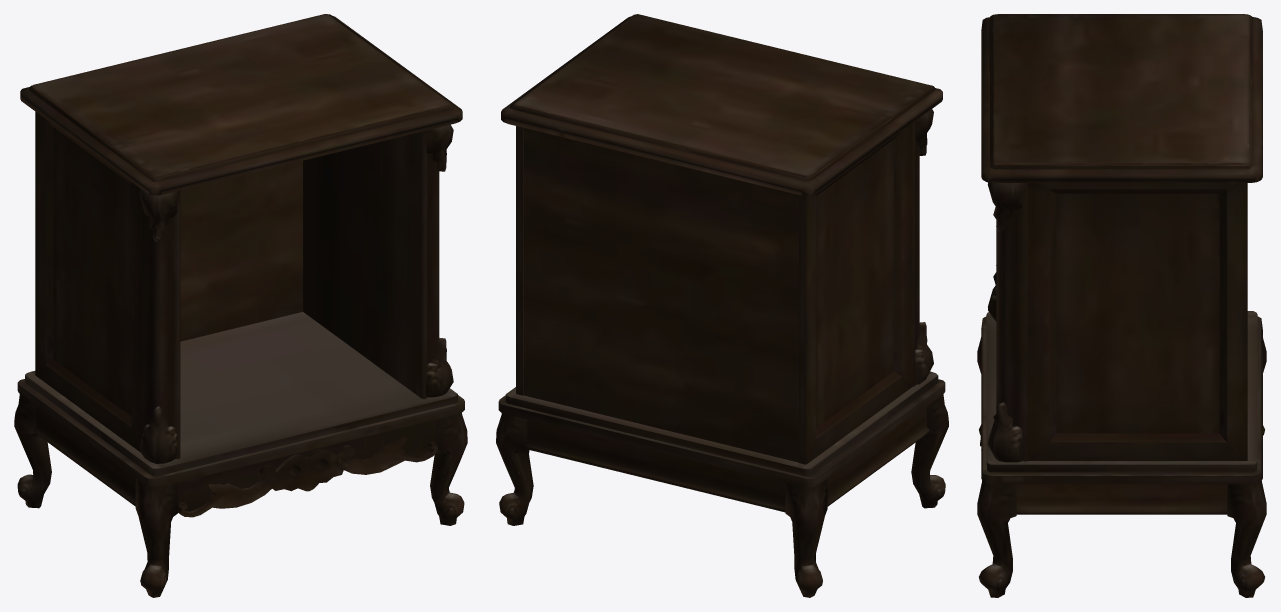
The model's file is nightstand.glb.
The picture shows the model from 3 angles, left to right: view 1: azimuth 30°, elevation 25°; view 2: azimuth 150°, elevation 25°; view 3: azimuth 270°, elevation 25°; orthographic projection. The views are drawn at different scales.
Parts seen in each view (by area): view 1: ClassicNightstand_01; view 2: ClassicNightstand_01; view 3: ClassicNightstand_01.
Boxes of the visible parts, box(x1,y1,x2,y2) form: ClassicNightstand_01: box(14, 14, 467, 597); ClassicNightstand_01: box(496, 14, 948, 597); ClassicNightstand_01: box(977, 14, 1266, 597).
Bounding box in the file's own units: 0.5678 × 0.7 × 0.4242.
1 material, 1 textured.
